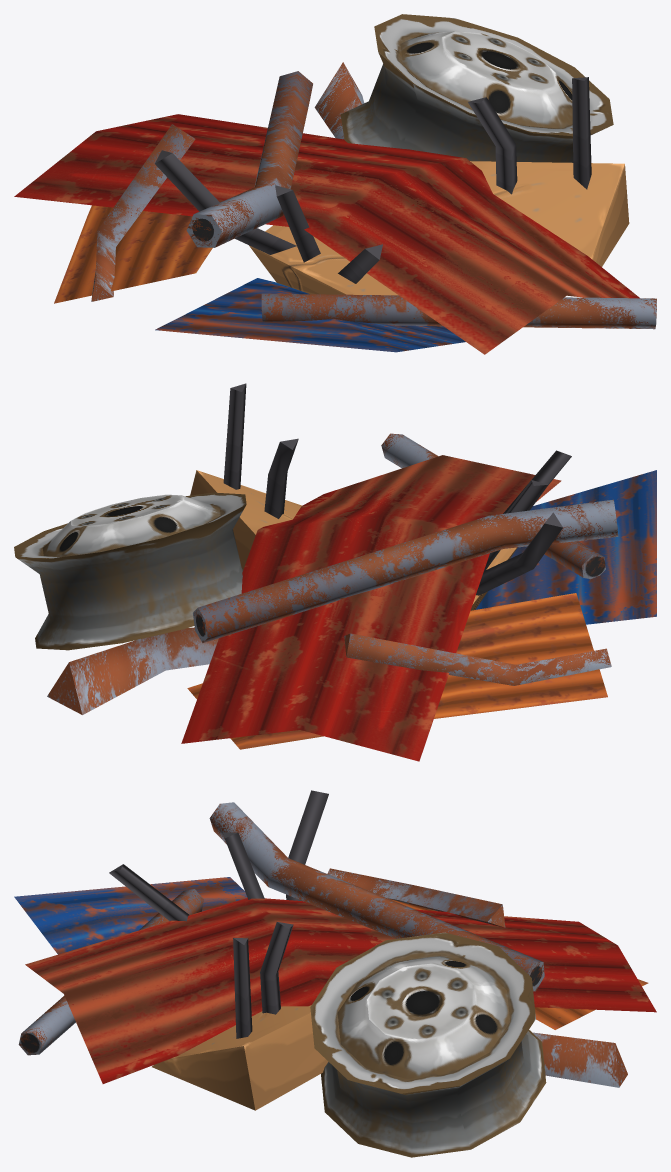
File: resource_metal.fbx
3 renders of one model, top to bottom at view 1: azimuth 30°, elevation 25°; view 2: azimuth 150°, elevation 25°; view 3: azimuth 270°, elevation 25°, orthographic. The views are drawn at different scales.
Parts seen in each view (by area): view 1: resource_metal; view 2: resource_metal; view 3: resource_metal.
Part boxes in pixels (<box>): resource_metal: <box>14,14,656,354</box>; resource_metal: <box>14,383,656,761</box>; resource_metal: <box>14,790,656,1157</box>.
Size of the model in its own units: 127 by 42.62 by 138.
